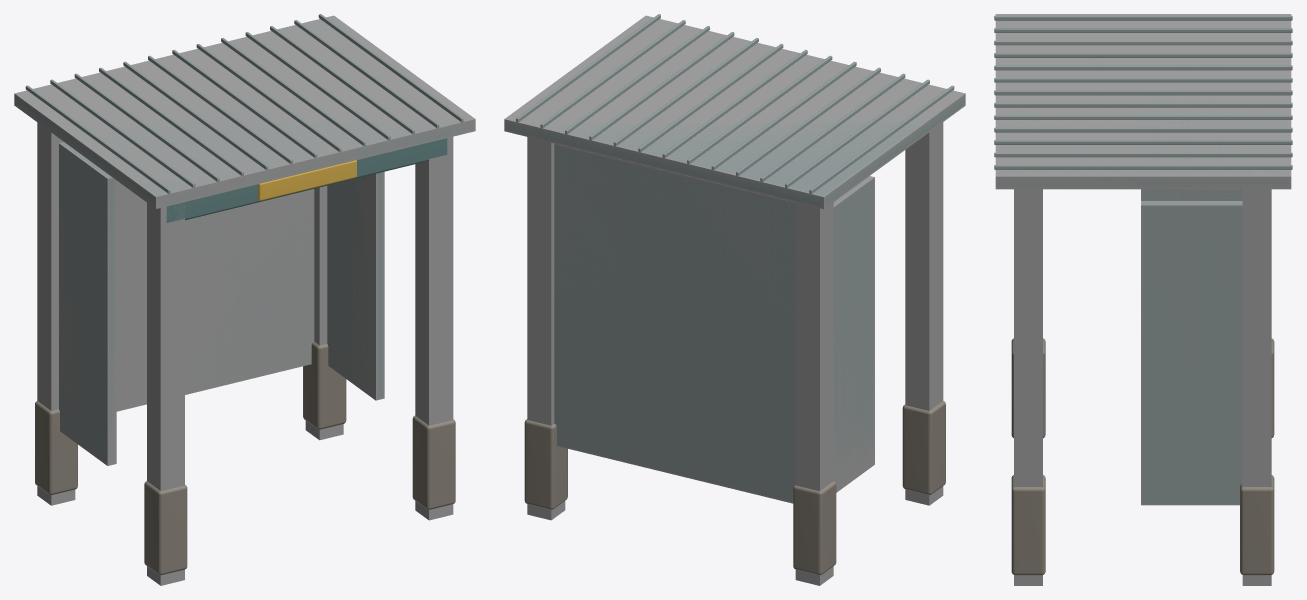
Rendered from archive-loading-bay.glb.
3 views of the same model, side by side, from view 1: azimuth 30°, elevation 25°; view 2: azimuth 150°, elevation 25°; view 3: azimuth 270°, elevation 25° (orthographic). The views are drawn at different scales.
Parts seen in each view (by area): view 1: Weathered zinc roofing, COL_canopy, COL_back, Archive bay concrete footings, COL_upright, COL_upright.002, COL_side, COL_side.001, COL_upright.001, Archive bay painted steel, COL_upright.003, Faded yellow loading stripes; view 2: Weathered zinc roofing, COL_canopy, COL_upright.001, COL_upright, Archive bay concrete footings, COL_upright.003, COL_back, COL_side; view 3: Weathered zinc roofing, COL_canopy, COL_upright.003, COL_upright.002, Archive bay concrete footings, COL_side.001, COL_side.
Boxes of the visible parts, box(x1,y1,x2,y2) form: Weathered zinc roofing: box(15, 14, 473, 463); COL_canopy: box(14, 15, 475, 208); COL_back: box(116, 181, 314, 411); Archive bay concrete footings: box(35, 342, 455, 575); COL_upright: box(147, 202, 184, 585); COL_upright.002: box(415, 136, 453, 520); COL_side: box(59, 143, 116, 465); COL_side.001: box(327, 171, 384, 400); COL_upright.001: box(37, 122, 75, 505); Archive bay painted steel: box(166, 138, 447, 222); COL_upright.003: box(305, 186, 343, 440); Faded yellow loading stripes: box(258, 160, 356, 200); Weathered zinc roofing: box(506, 14, 964, 501); COL_canopy: box(504, 15, 965, 209); COL_upright.001: box(795, 202, 833, 585); COL_upright: box(905, 122, 943, 505); Archive bay concrete footings: box(524, 401, 945, 575); COL_upright.003: box(527, 137, 565, 520); COL_back: box(554, 143, 795, 503); COL_side: box(833, 176, 874, 492); Weathered zinc roofing: box(994, 15, 1292, 503); COL_canopy: box(995, 14, 1291, 189); COL_upright.003: box(1242, 189, 1271, 585); COL_upright.002: box(1014, 189, 1042, 585); Archive bay concrete footings: box(1011, 338, 1274, 575); COL_side.001: box(1141, 201, 1242, 505); COL_side: box(1141, 189, 1242, 200).
Size of the model in its own units: 3.05 by 3.67 by 2.36.
